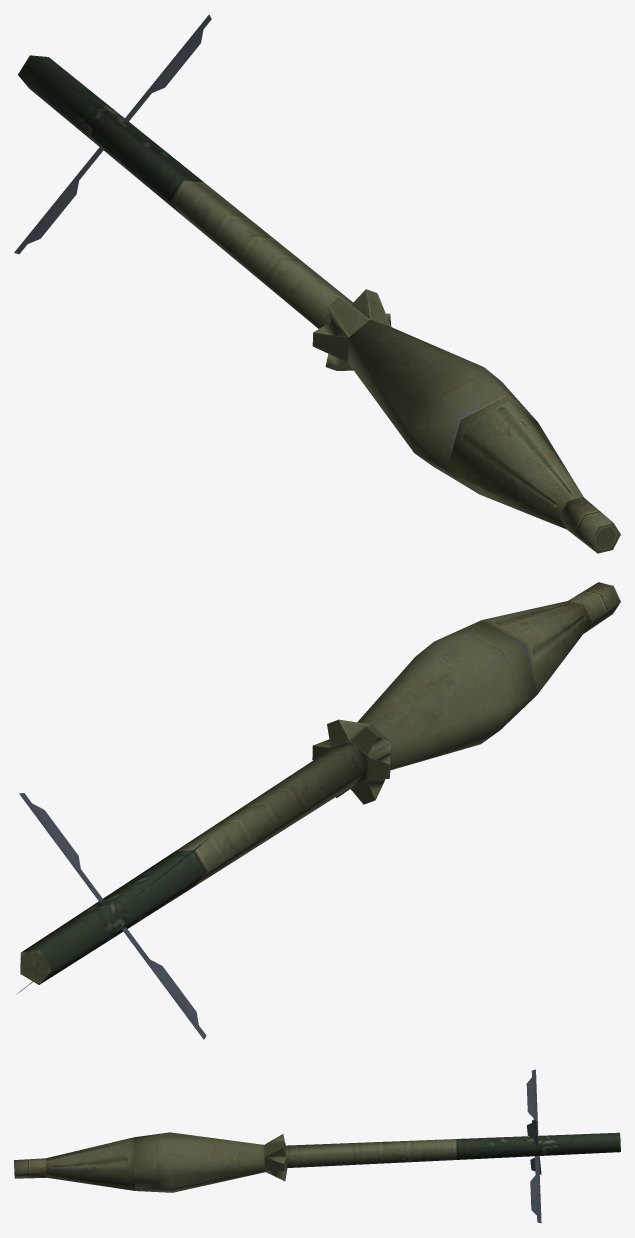
The model's file is Pickup_1022Rpg7B.glb.
3 renders of one model, top to bottom at view 1: azimuth 30°, elevation 25°; view 2: azimuth 150°, elevation 25°; view 3: azimuth 270°, elevation 25°, orthographic. The views are drawn at different scales.
Visible parts, largest first — view 1: pk_1022_RPG7_B; view 2: pk_1022_RPG7_B; view 3: pk_1022_RPG7_B.
Part boxes in pixels (x1,y1,x2,y2): pk_1022_RPG7_B: (14,14,620,553); pk_1022_RPG7_B: (16,582,620,1039); pk_1022_RPG7_B: (14,1069,620,1223).
Size of the model in its own units: 0.3223 by 0.3219 by 1.67.
Materials: 1 (1 with a texture image).
